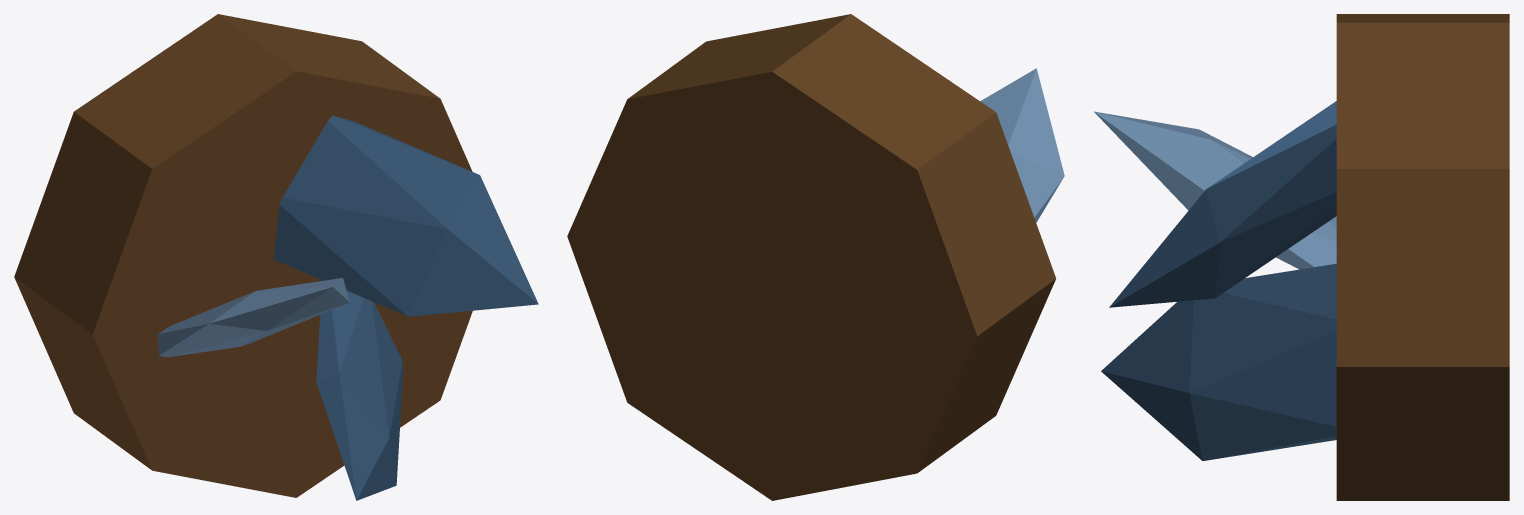
File: 1_seedling.obj
The picture shows the model from 3 angles, left to right: view 1: azimuth 30°, elevation 25°; view 2: azimuth 150°, elevation 25°; view 3: azimuth 270°, elevation 25°; orthographic projection. The views are drawn at different scales.
Visible parts, largest first — view 1: irit_1_seedling; view 2: irit_1_seedling; view 3: irit_1_seedling.
Boxes of the visible parts, x1,y1,x2,y2 form: irit_1_seedling: (14,14,538,500); irit_1_seedling: (567,14,1064,500); irit_1_seedling: (1094,14,1509,500).
Bounding box in the file's own units: 0.12 × 0.12 × 0.0963.
